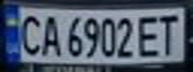0: (100, 14, 118, 58)
2: (115, 13, 139, 60)
6: (60, 12, 84, 57)
9: (81, 14, 103, 58)
A: (36, 11, 63, 57)
C: (15, 11, 45, 56)
E: (136, 12, 163, 59)
T: (154, 11, 184, 56)
